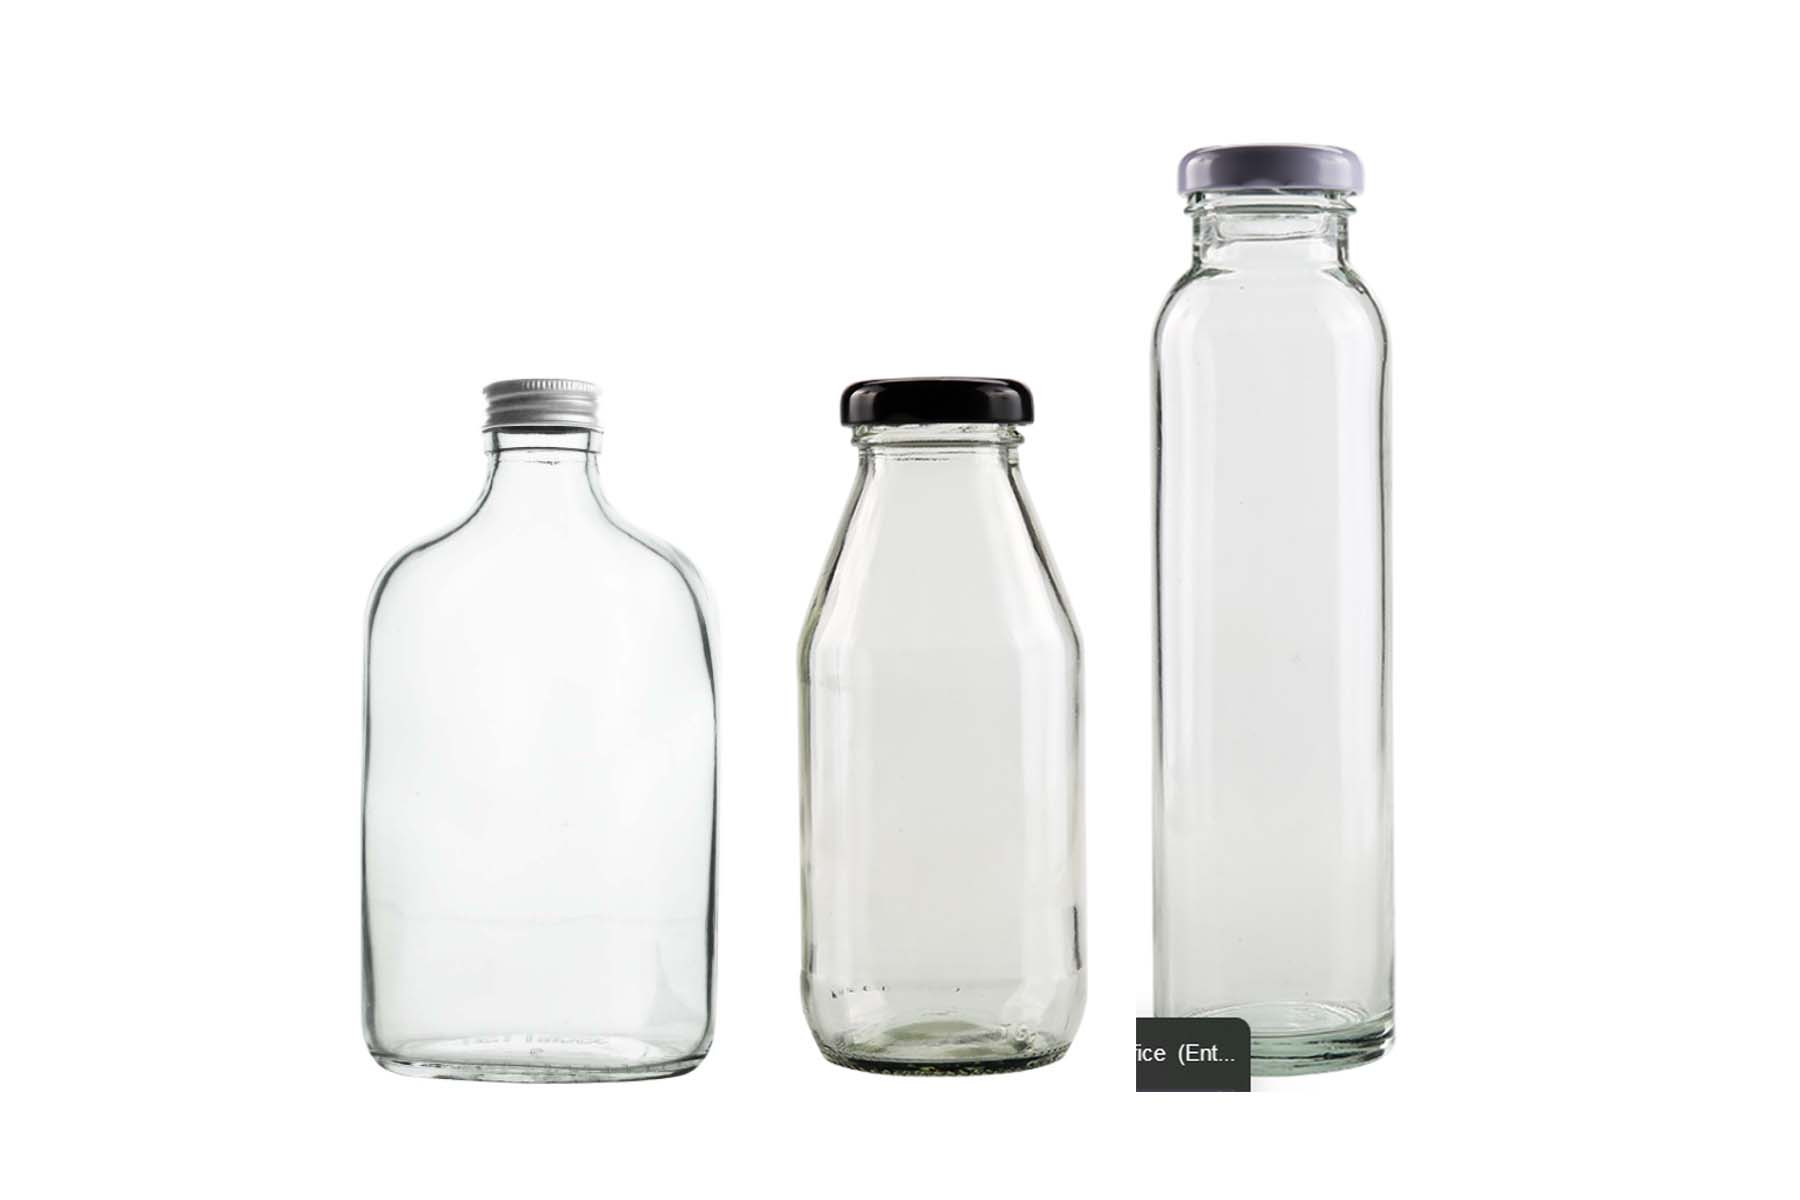glass_bottle: (327, 354, 737, 1098), (1137, 134, 1421, 1089), (778, 363, 1116, 1092)
